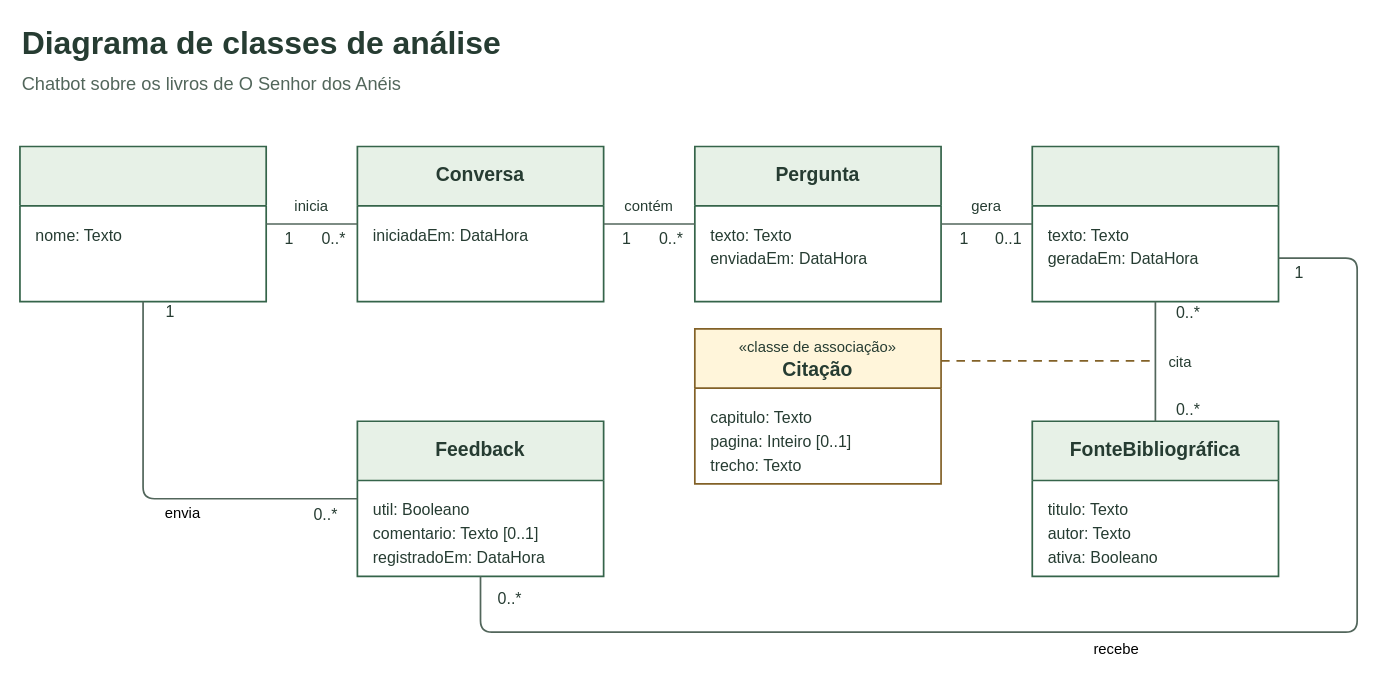
The diagram is 1379 pixels wide and 677 high, and some of its shapes have lost their labels. The box of each missing label's shape, as (x1, y1, x2, y2) in pixels:
Leitor: (19, 145, 267, 302)
Resposta: (1031, 145, 1279, 302)
